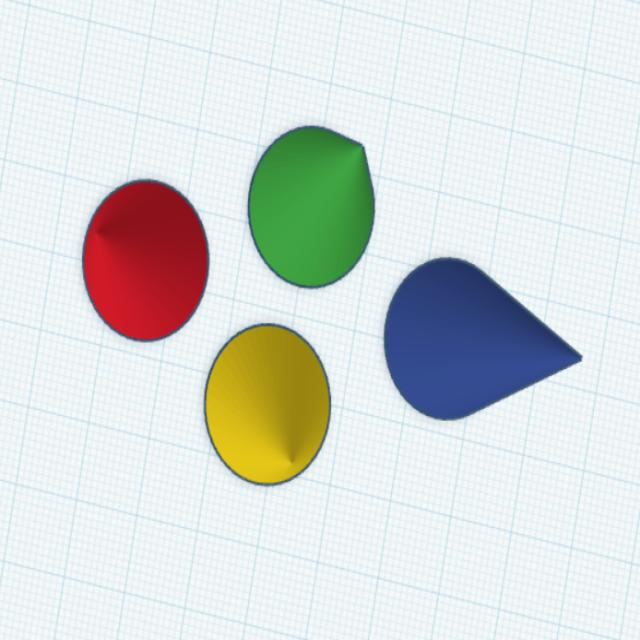cone: (382, 254, 586, 424), (244, 122, 378, 292), (202, 319, 334, 490), (80, 177, 210, 346)
